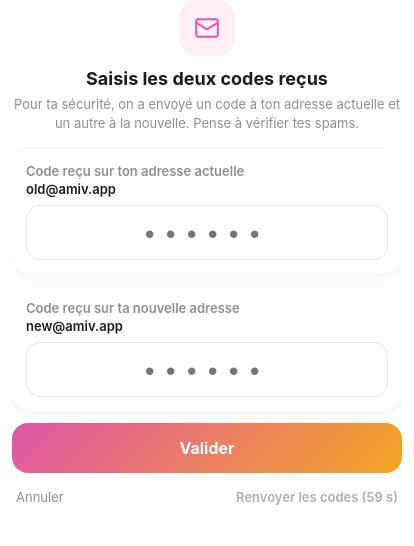
Scenario: EmailChangeCodeStep › Valider avec un champ incomplet : message sur ce champ, aucun appel
Step 1. Type "111111" into the field labelled "Code reçu sur ton adresse actuelle" → [207, 232], box [26, 205, 388, 260]
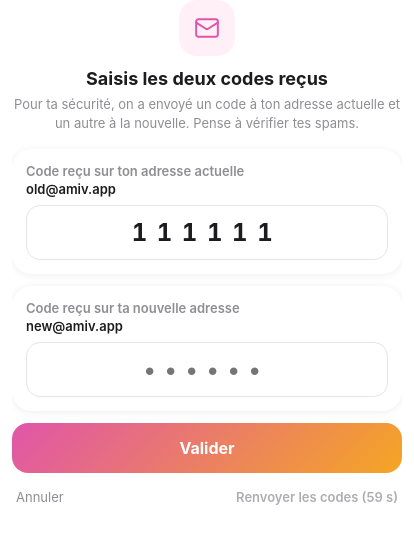
Step 2. Click the button "Valider" → [207, 448], box [12, 423, 402, 473]
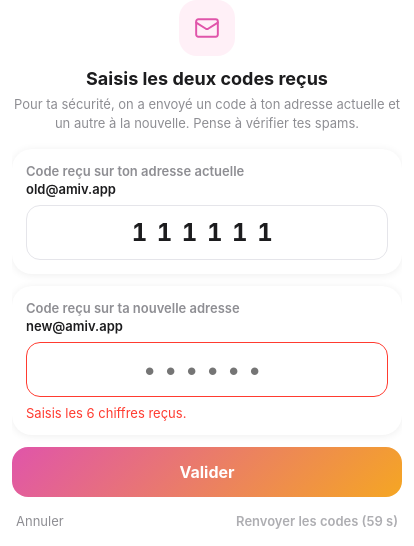
Now the text "Saisis les 6 chiffres reçus." is shown, box [26, 405, 186, 421]
